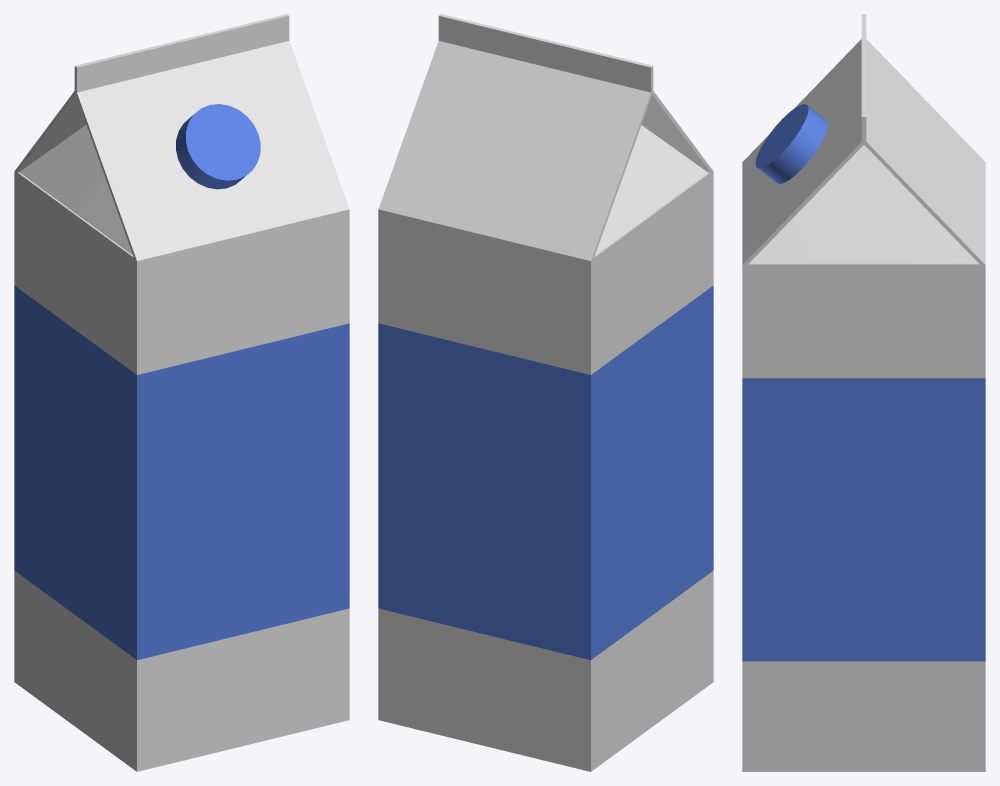
The model's file is milk.fbx.
The picture shows the model from 3 angles, left to right: view 1: azimuth 30°, elevation 25°; view 2: azimuth 150°, elevation 25°; view 3: azimuth 270°, elevation 25°; orthographic projection.
Parts seen in each view (by area): view 1: milk; view 2: milk; view 3: milk.
Boxes of the visible parts, box(x1,y1,x2,y2) form: milk: box(14, 14, 349, 771); milk: box(378, 14, 713, 771); milk: box(742, 14, 985, 771).
Size of the model in its own units: 7 by 20.79 by 7.
